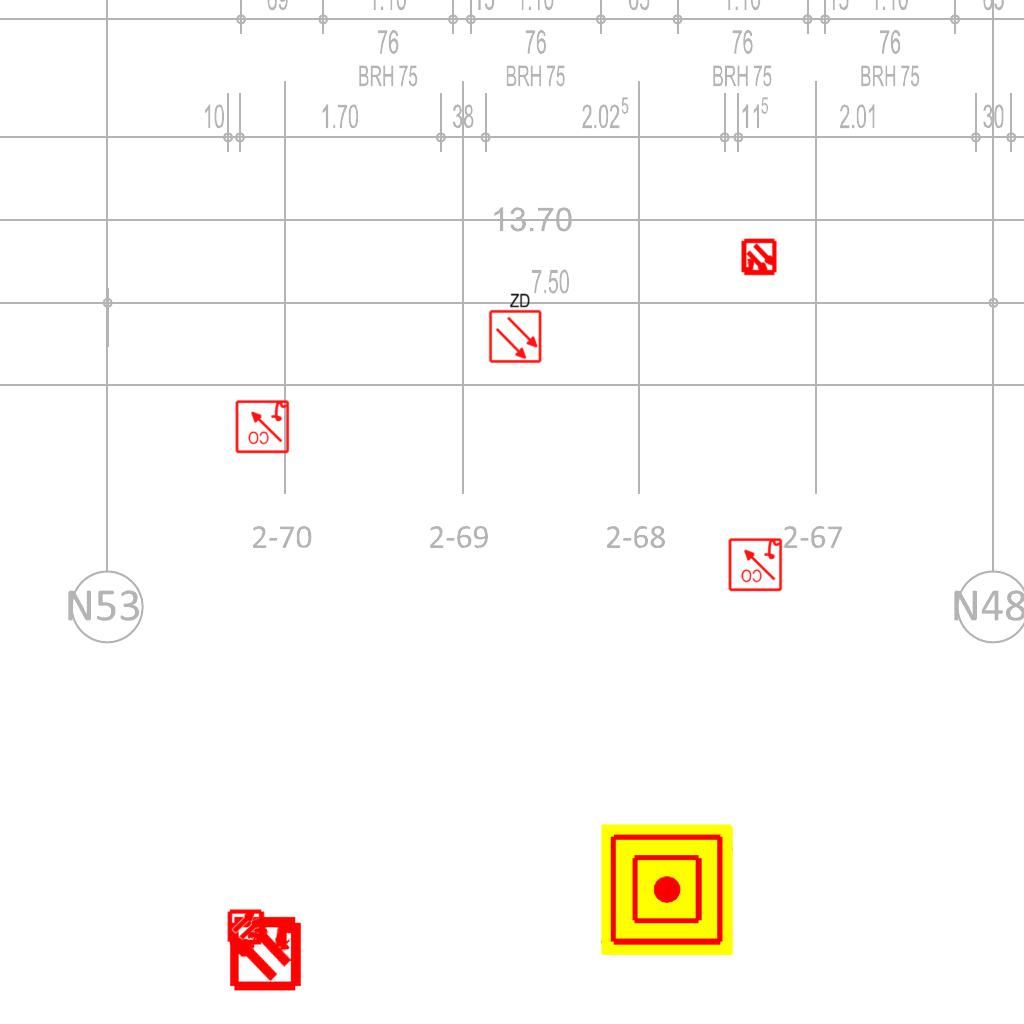NAM-Nichtautomatischer_Melder: (601, 824, 733, 956)
OT_Multisensormelder_(Kombination_RMO_WMD): (209, 895, 322, 1008), (731, 230, 787, 286), (219, 899, 275, 955)
ROA_Rauchmelder_optisch_mit_Signalgeber_(Sockelsirene): (234, 398, 290, 454), (727, 536, 783, 592)
ZD_Melder_in_Zwischendecke_mit_Revisionsoeffnung_mind_40_x_40_cm: (486, 290, 543, 364)
